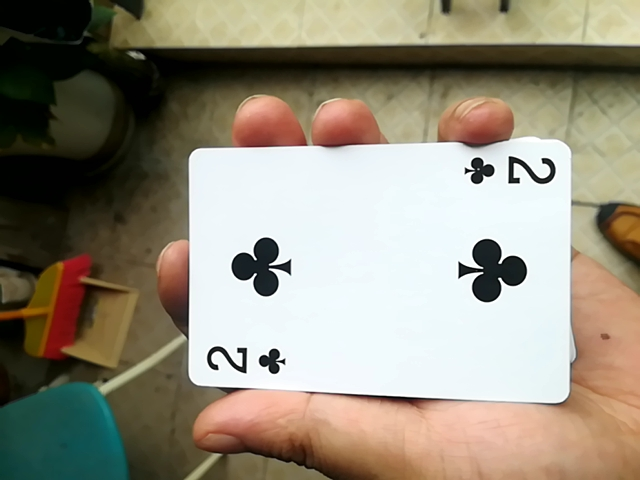mh 2: (179, 138, 567, 407)
